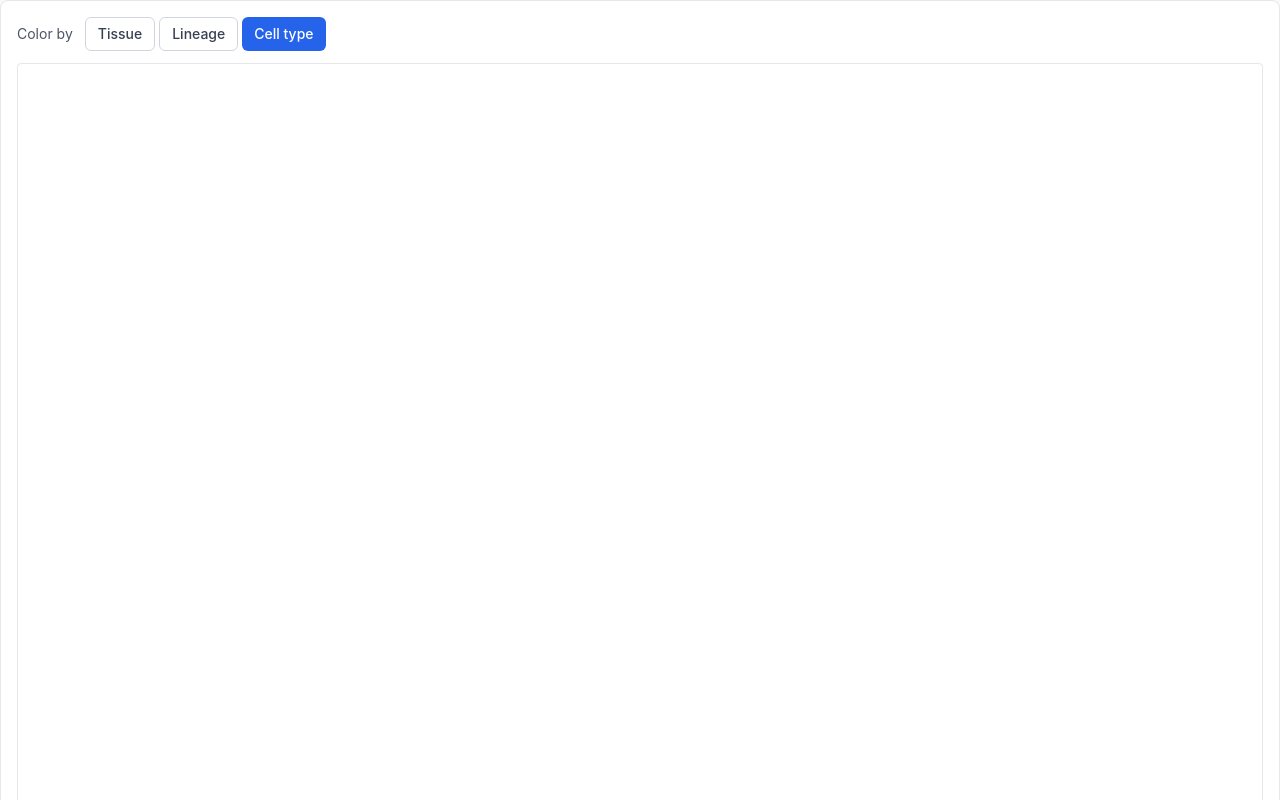
Scenario: AnnotationViewer › switches color mode to tissue and updates legend
Click the button with test id "level-btn-tissue" at (120, 34), box [85,17,155,51]
(page scrolled)
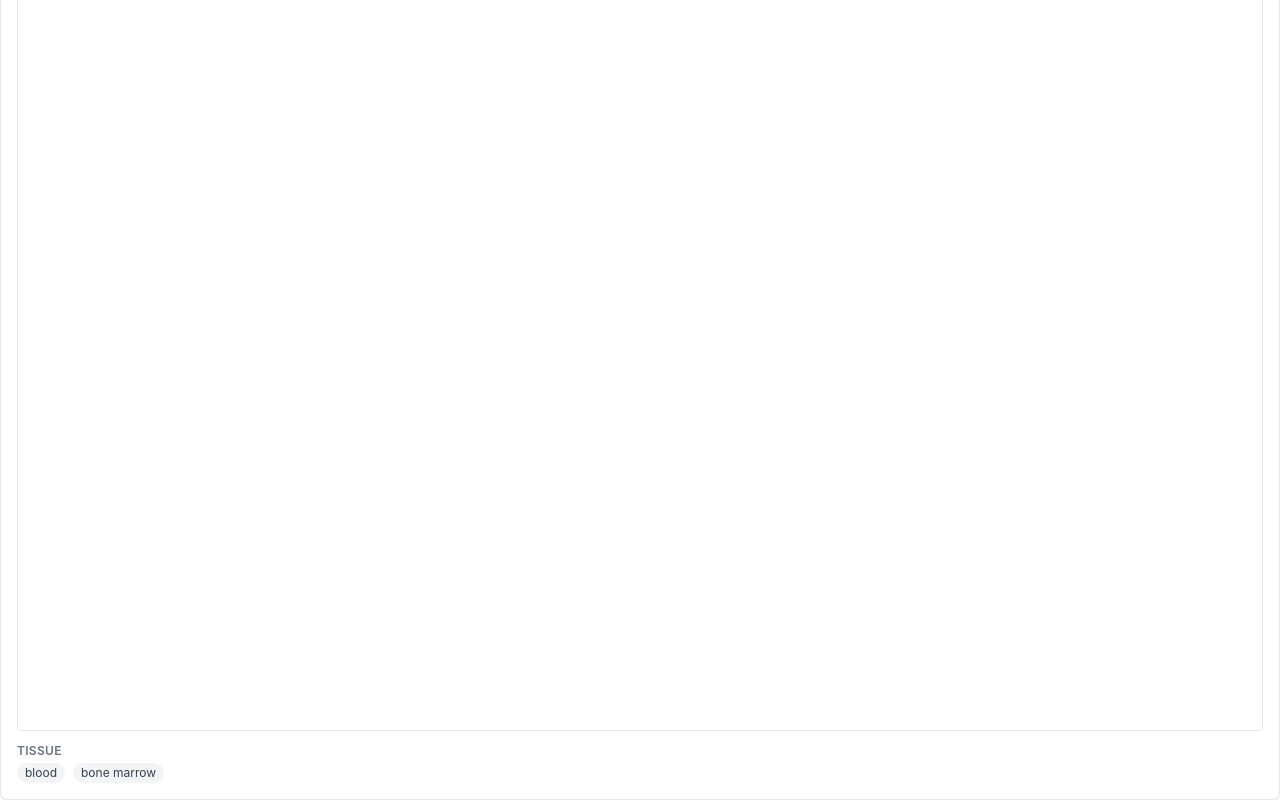
Check: the element with test id "annotation-legend" shows "blood", box [25,765,57,780]
Check: the element with test id "annotation-legend" shows "bone marrow", box [81,765,156,780]
